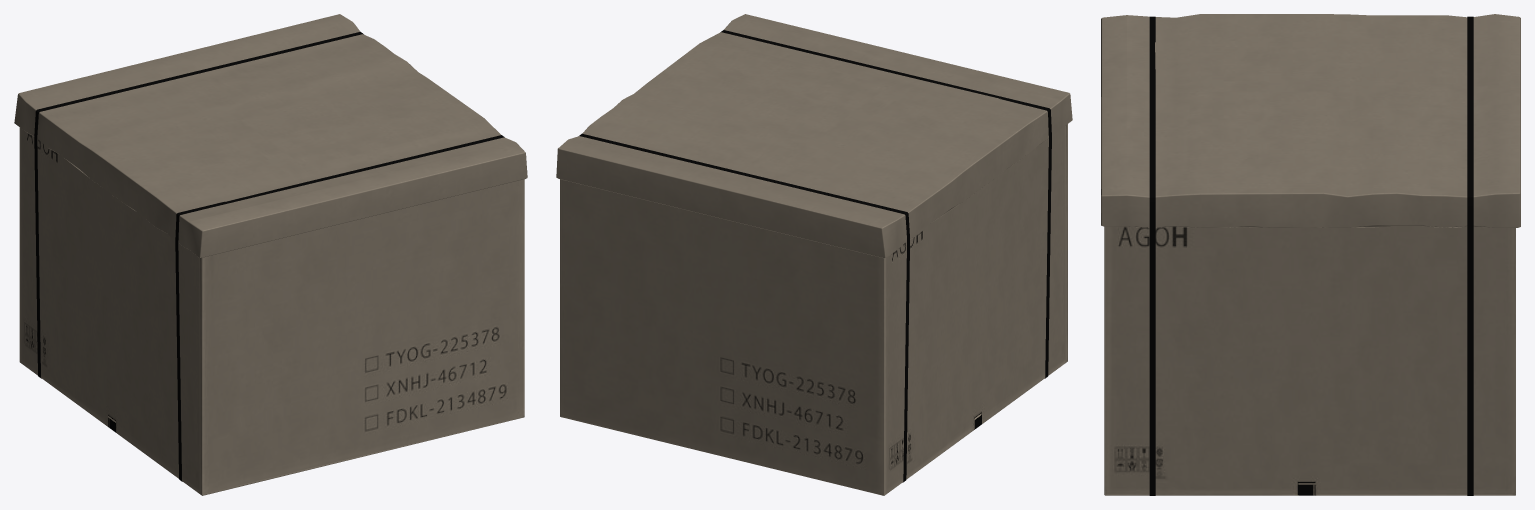
Rendered from Cardboard_A2.glb.
The picture shows the model from 3 angles, left to right: view 1: azimuth 30°, elevation 25°; view 2: azimuth 150°, elevation 25°; view 3: azimuth 270°, elevation 25°; orthographic projection. The views are drawn at different scales.
Visible parts, largest first — view 1: Cardboard_A; view 2: Cardboard_A; view 3: Cardboard_A.
Part boxes in pixels (x1=…): Cardboard_A: x1=14, y1=14, x2=527, y2=495; Cardboard_A: x1=556, y1=14, x2=1072, y2=495; Cardboard_A: x1=1101, y1=14, x2=1520, y2=495.
Bounding box in the file's own units: 1.05 × 0.8174 × 1.03.
Materials: 1 (1 with a texture image).
